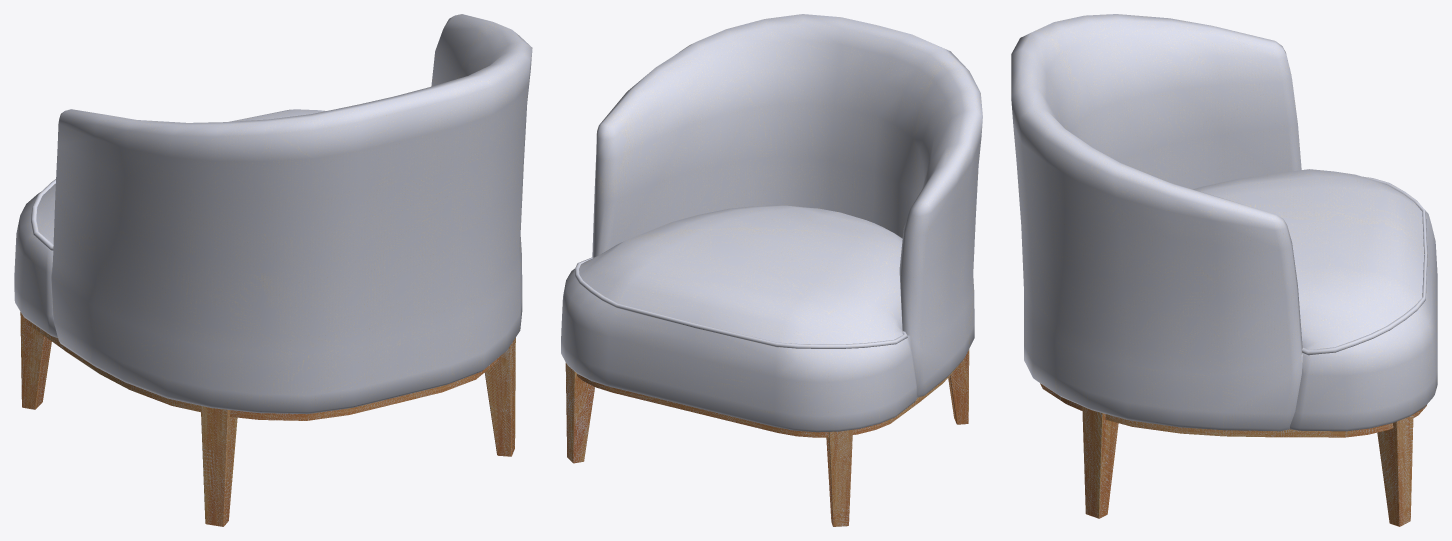
File: mod2.glb
3 renders of one model, left to right at view 1: azimuth 30°, elevation 25°; view 2: azimuth 150°, elevation 25°; view 3: azimuth 270°, elevation 25°, orthographic. The views are drawn at different scales.
Visible parts, largest first — view 1: group_0, group_3, group_0.003, group_1, group_4; view 2: group_0, group_4, group_2, group_0.003, group_0.001, group_3; view 3: group_0, group_1, group_2, group_0.003, group_0.001.
Boxes of the visible parts, x1=… form: group_0: x1=14, y1=14, x2=532, y2=414; group_3: x1=200, y1=406, x2=237, y2=526; group_0.003: x1=26, y1=319, x2=501, y2=420; group_1: x1=484, y1=337, x2=515, y2=456; group_4: x1=20, y1=312, x2=51, y2=409; group_0: x1=561, y1=14, x2=982, y2=432; group_4: x1=826, y1=429, x2=852, y2=526; group_2: x1=565, y1=363, x2=594, y2=463; group_0.003: x1=577, y1=366, x2=957, y2=437; group_0.001: x1=574, y1=257, x2=907, y2=348; group_3: x1=948, y1=349, x2=969, y2=424; group_0: x1=1011, y1=14, x2=1437, y2=431; group_1: x1=1082, y1=406, x2=1118, y2=518; group_2: x1=1377, y1=415, x2=1413, y2=526; group_0.003: x1=1040, y1=383, x2=1426, y2=437; group_0.001: x1=1302, y1=176, x2=1427, y2=355.
Size of the model in its own units: 0.6651 by 0.6511 by 0.658.
4 materials, 2 textured.
